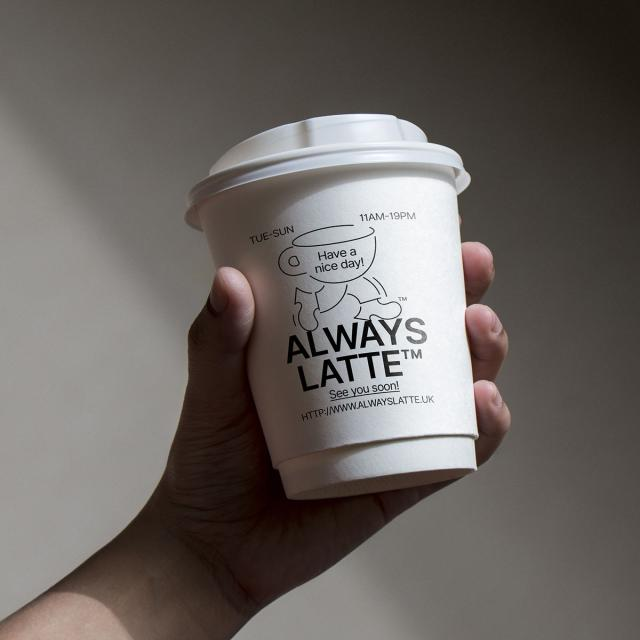paper cup: (187, 115, 480, 501)
